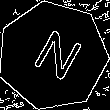N_SW: (23, 24, 83, 87)
